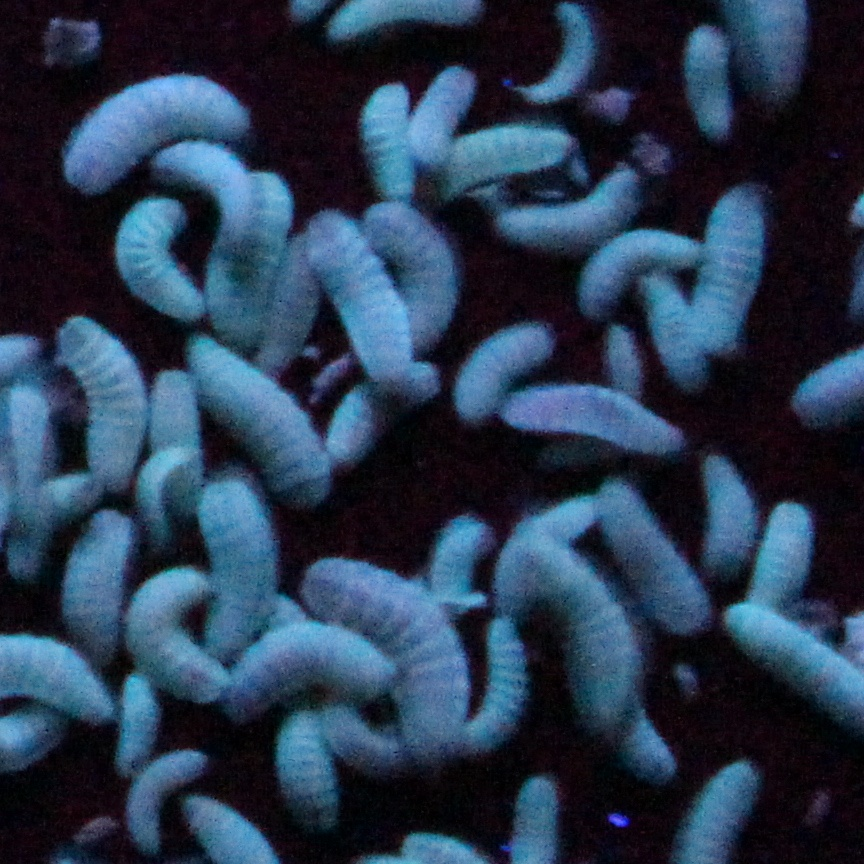larve: (356, 557, 463, 744), (541, 552, 641, 718), (222, 359, 334, 491), (75, 83, 224, 169), (65, 321, 142, 462), (329, 222, 402, 364), (497, 505, 597, 605), (143, 581, 236, 688), (619, 496, 702, 615), (212, 169, 270, 337), (224, 488, 280, 642), (707, 191, 770, 325), (234, 639, 387, 691), (524, 391, 683, 439), (124, 203, 195, 310), (336, 366, 426, 449), (265, 232, 317, 371), (509, 193, 641, 247), (76, 517, 130, 643), (287, 722, 351, 827), (758, 503, 817, 613), (685, 30, 748, 132), (400, 218, 451, 344), (702, 464, 753, 586), (178, 142, 248, 230), (22, 485, 86, 579), (370, 98, 422, 210), (597, 244, 683, 310), (134, 757, 192, 849), (458, 330, 529, 405), (1, 387, 48, 500), (465, 132, 583, 176), (170, 383, 209, 510), (656, 288, 709, 381), (422, 71, 470, 159), (531, 18, 585, 96), (443, 518, 487, 613), (148, 442, 185, 549), (483, 618, 512, 744), (607, 332, 656, 405), (122, 678, 158, 771), (634, 710, 675, 788)
